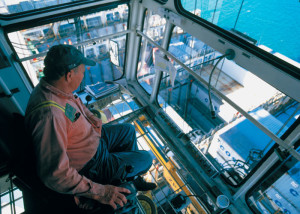crane-operator: (30, 46, 133, 169)
